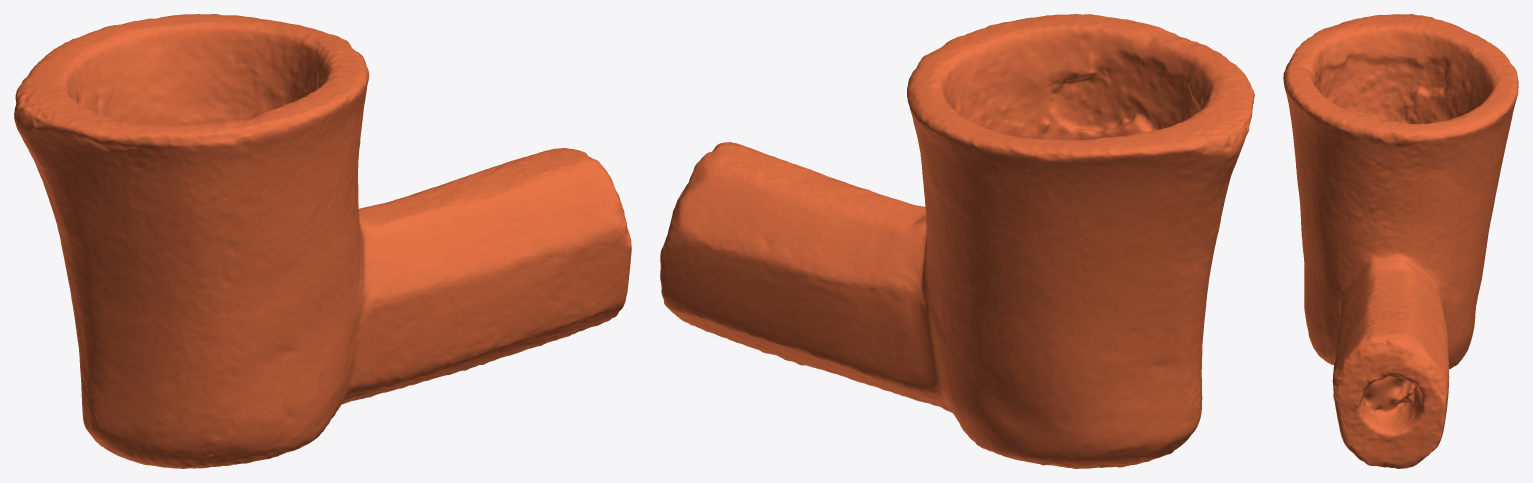
The picture shows the model from 3 angles, left to right: view 1: azimuth 30°, elevation 25°; view 2: azimuth 150°, elevation 25°; view 3: azimuth 270°, elevation 25°; orthographic projection. The views are drawn at different scales.
Visible parts, largest first — view 1: split_parent_0; view 2: split_parent_0; view 3: split_parent_0.
Boxes of the visible parts, x1,y1,x2,y2 form: split_parent_0: [14, 14, 631, 468]; split_parent_0: [660, 14, 1254, 468]; split_parent_0: [1283, 14, 1518, 468].
Size of the model in its own units: 1 by 0.6258 by 0.4756.
